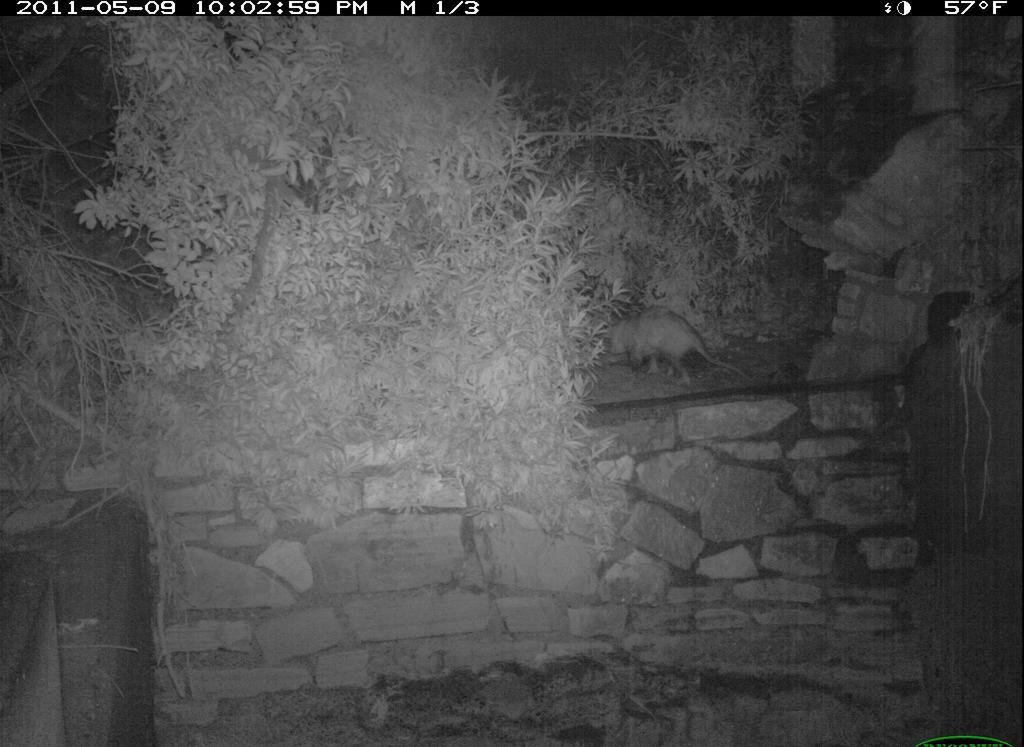opossum: (591, 304, 760, 396)
